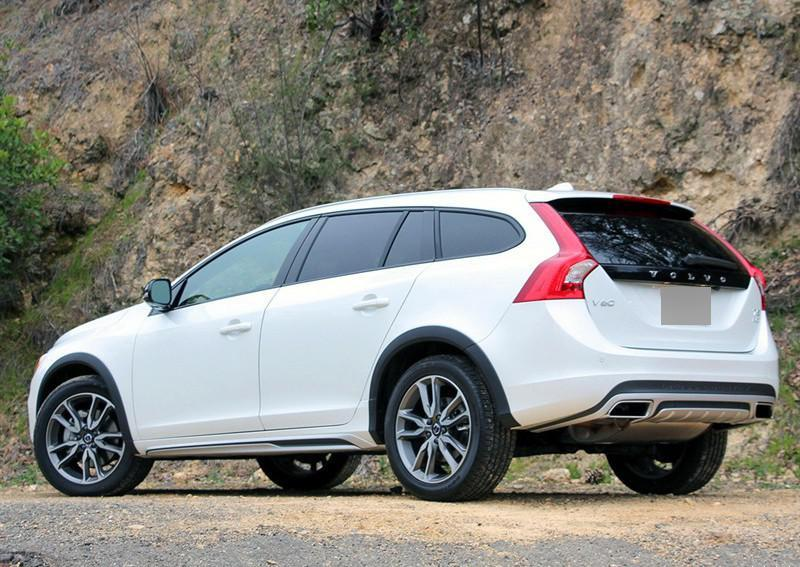Wagon: (22, 179, 785, 506)
